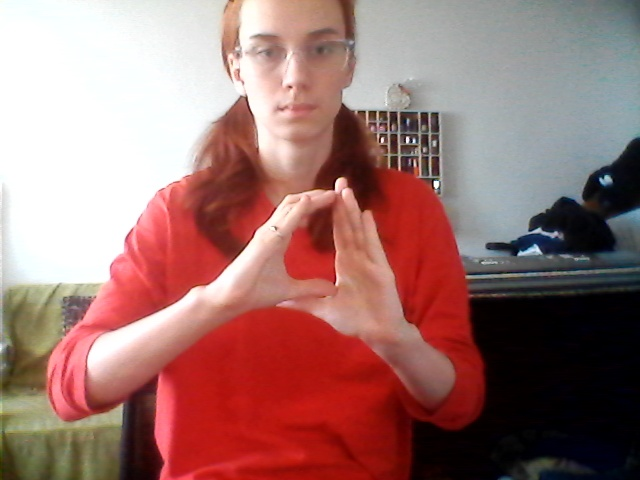d: (244, 175, 405, 344)
